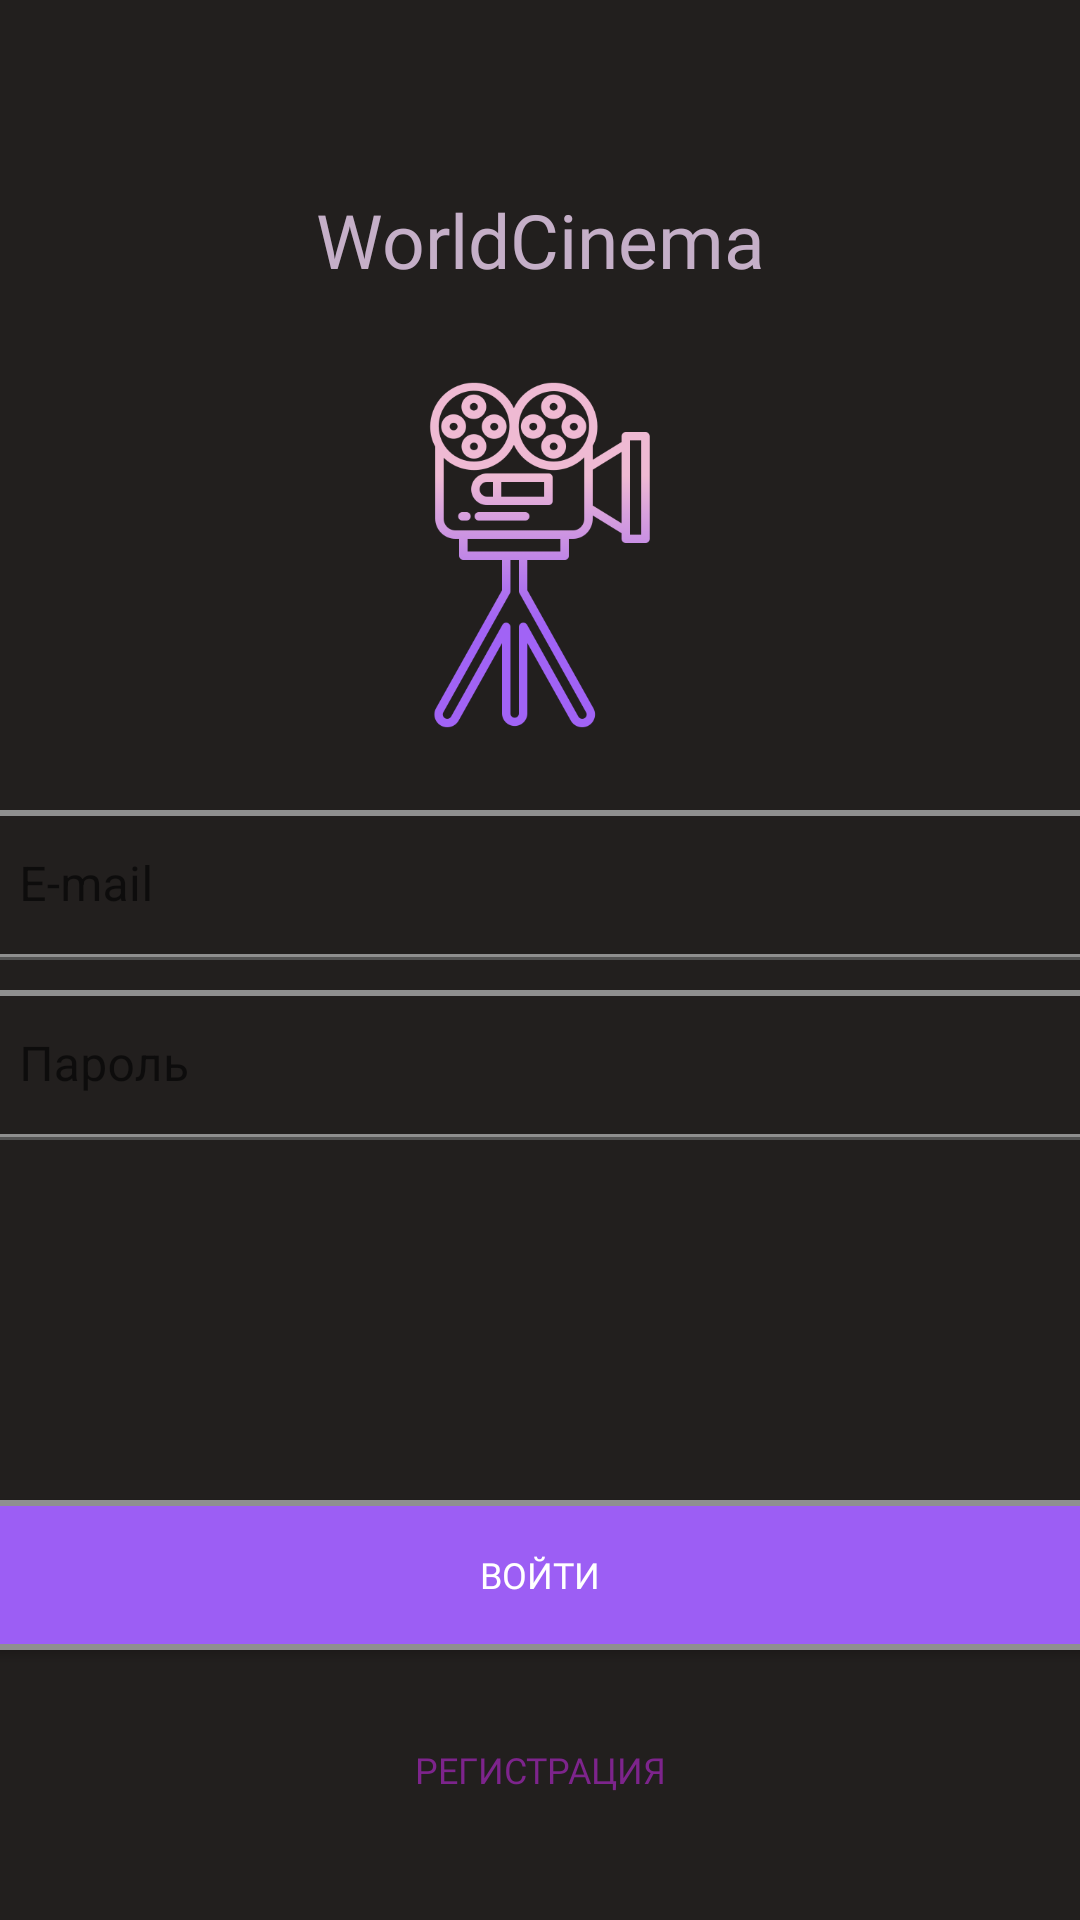

Icons on this 1080px×1920px Android screen, each with the point to tap as point (x, y):
cam: point (540, 555)
